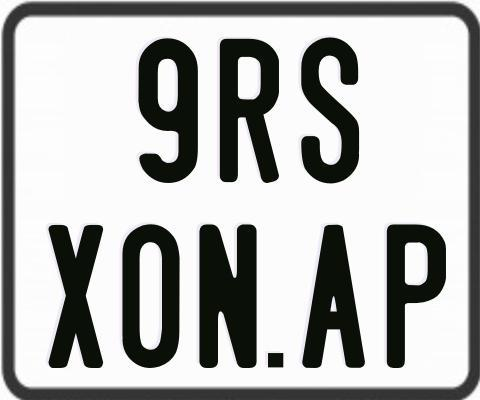0: (120, 223, 181, 367)
9: (138, 38, 204, 185)
A: (299, 222, 366, 365)
N: (198, 224, 258, 371)
P: (385, 222, 448, 368)
R: (218, 37, 278, 183)
S: (301, 36, 364, 187)
X: (47, 223, 102, 369)
